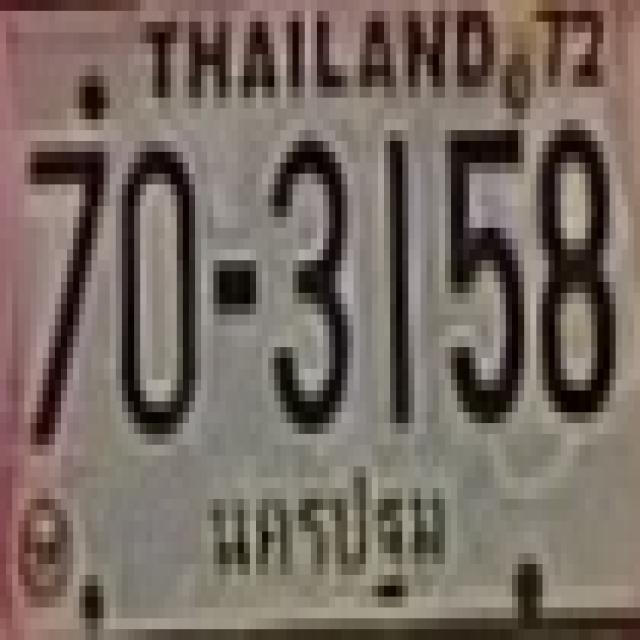0: (116, 130, 195, 434)
1: (384, 130, 408, 423)
3: (268, 130, 348, 423)
5: (445, 125, 518, 418)
7: (24, 136, 104, 439)
8: (536, 120, 610, 412)
NPT: (188, 454, 461, 616)
